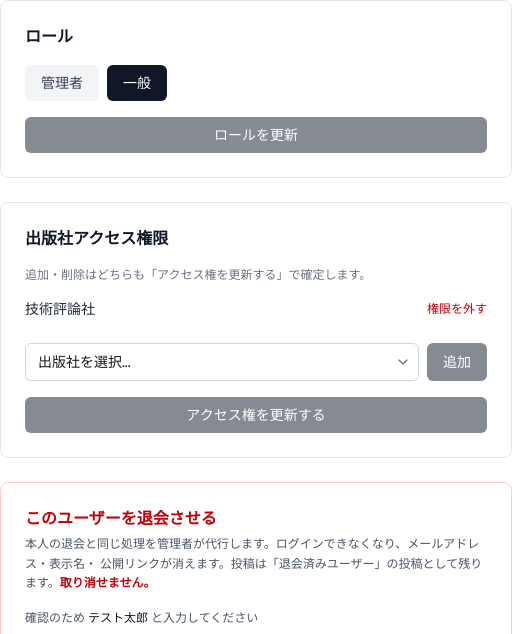
Test case: AdminUserEditor › 出版社アクセスの削除 › 確定すると一覧から消える
The image size is (529, 634).
Click the button "権限を外す" at (457, 309), box [427,301,487,317]
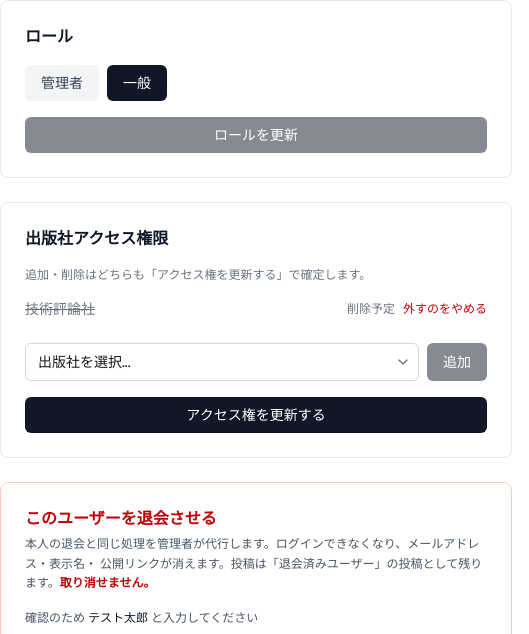
Click the button "アクセス権を更新する" at (256, 415), box [25,397,487,433]
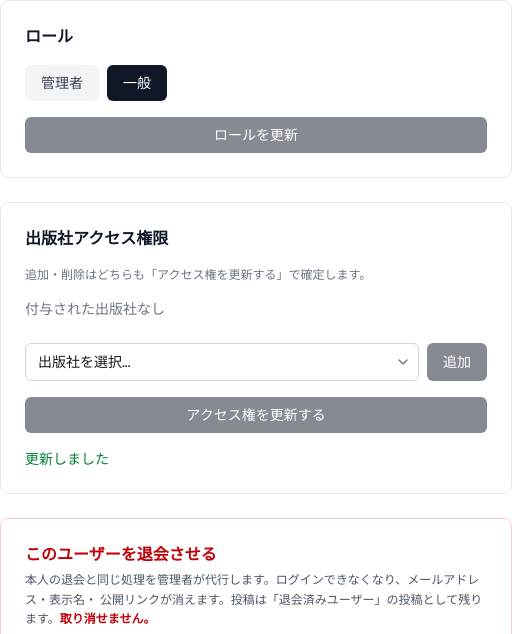
Result: the text "更新しました" is shown at [25,450,109,468]
Result: no list items are shown
Result: the text "付与された出版社なし" is shown at [25,300,165,318]
